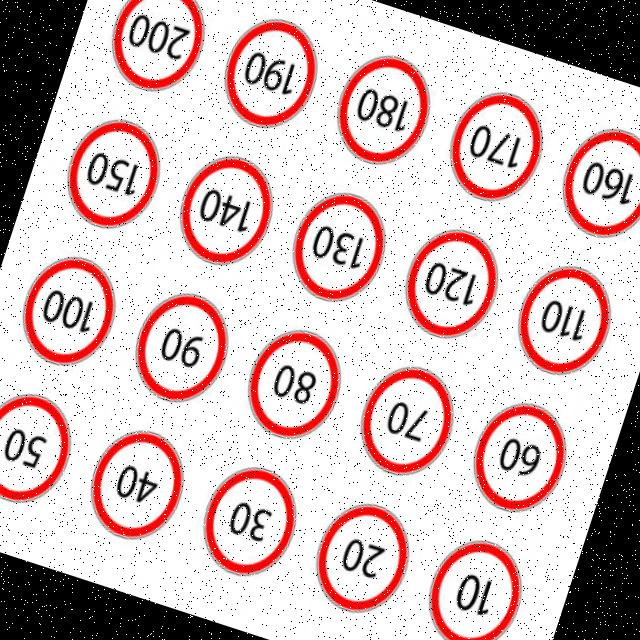speed_limit_100: (0, 227, 141, 379)
speed_limit_120: (387, 210, 514, 358)
speed_limit_20: (299, 488, 431, 632)
speed_limit_30: (182, 451, 315, 598)
speed_limit_50: (0, 373, 92, 522)
speed_limit_60: (456, 380, 586, 535)
speed_limit_70: (346, 352, 476, 498)
speed_limit_80: (228, 310, 362, 457)
